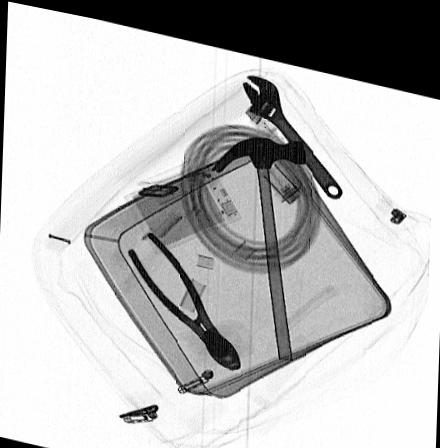Hammer: (210, 126, 305, 349)
Pliers: (127, 225, 242, 361)
Powerbank: (120, 150, 242, 248)
Wrench: (241, 64, 341, 185)
